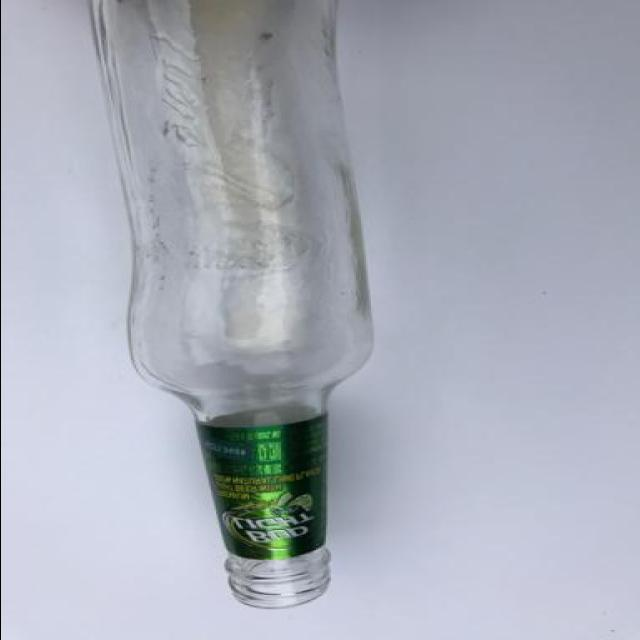glass: (85, 0, 379, 612)
